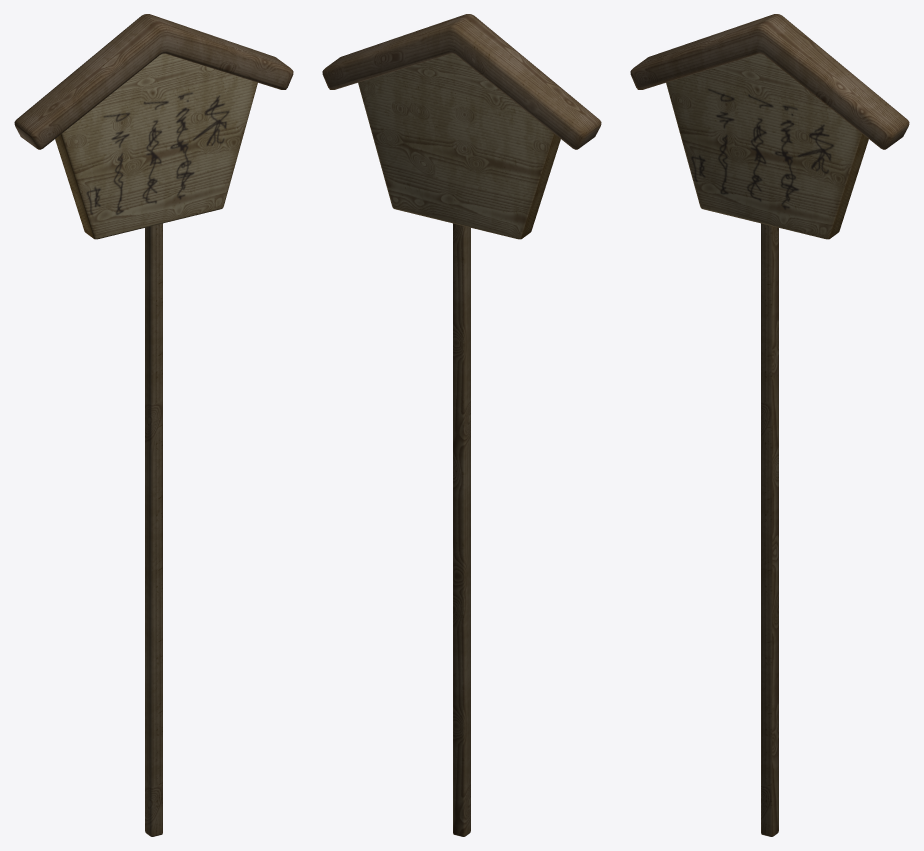
The model's file is Signboard.fbx.
3 renders of one model, left to right at view 1: azimuth 30°, elevation 25°; view 2: azimuth 150°, elevation 25°; view 3: azimuth 330°, elevation 25°, orthographic.
Visible parts, largest first — view 1: Signboard; view 2: Signboard; view 3: Signboard.
Boxes of the visible parts, box(x1,y1,x2,y2) form: Signboard: box(14, 14, 293, 836); Signboard: box(322, 14, 601, 836); Signboard: box(630, 14, 909, 836).
Bounding box in the file's own units: 0.5544 × 1.64 × 0.0733.
